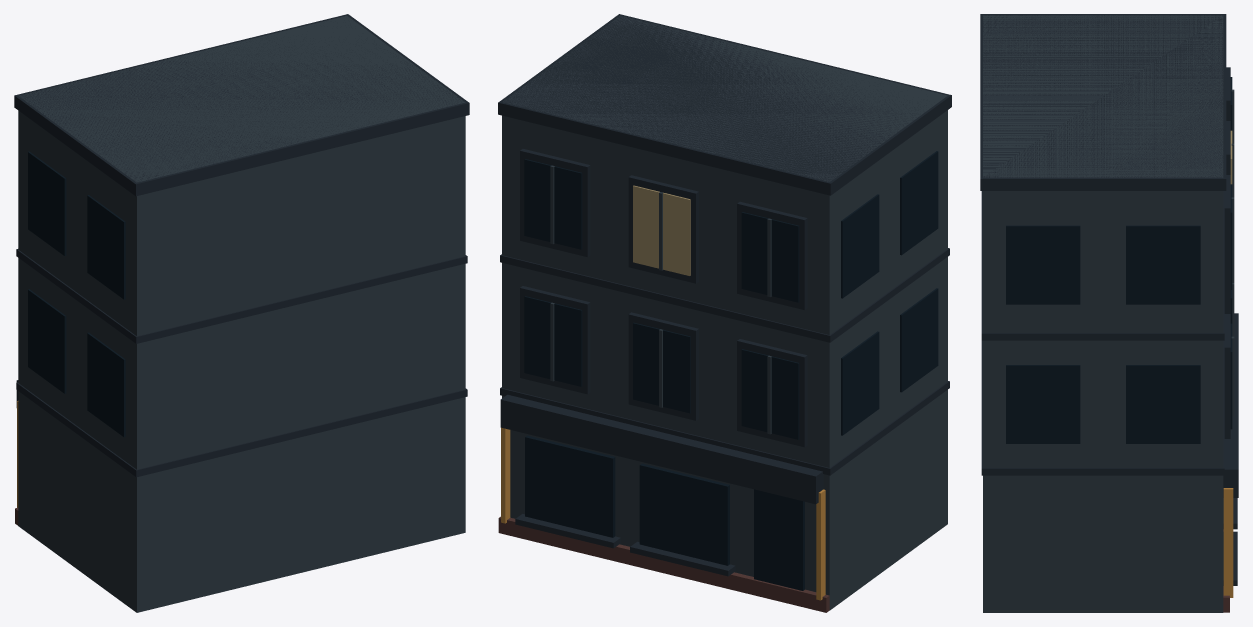
Rendered from la-city-storefront-facade.glb.
The picture shows the model from 3 angles, left to right: view 1: azimuth 30°, elevation 25°; view 2: azimuth 150°, elevation 25°; view 3: azimuth 270°, elevation 25°; orthographic projection.
Visible parts, largest first — view 1: Surface; view 2: Surface; view 3: Surface.
Part boxes in pixels (left/top/right/bottom): Surface: left=14, top=14, right=469, bottom=612; Surface: left=498, top=14, right=951, bottom=612; Surface: left=980, top=14, right=1238, bottom=612.
Bounding box in the file's own units: 8.12 × 10 × 5.38.
